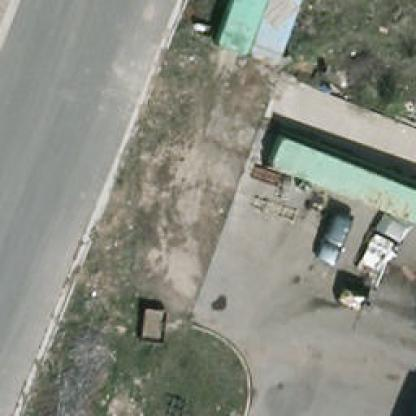car: (310, 204, 351, 266)
